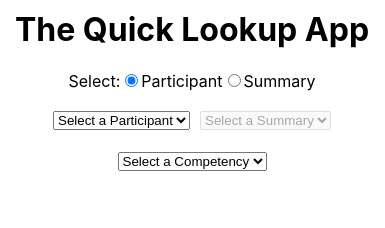
Test: Correct output when selecting `MBOLevel` with summary `type` › should get the correct result after selecting 'Summary' and 'Competency' select boxes
The width and height of the screenshot is (385, 228).
Step 1. Click the radio button labelled "Summary" → (234, 80), box [228,74,240,87]
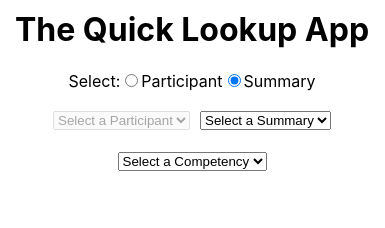
Step 2. Select "type" in the dropdown with test id "select-summary" → (266, 120), box [200,111,331,130]
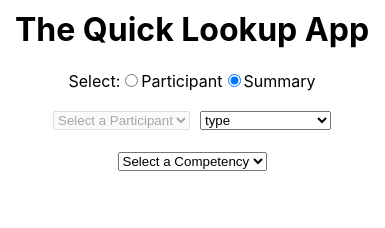
Step 3. Select "MBOLevel" in the dropdown with test id "select-competency" → (192, 161), box [118,152,266,171]
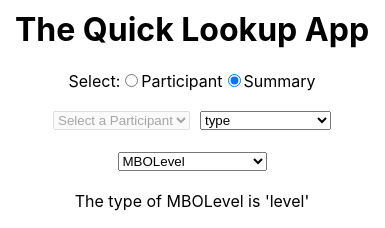
Expected: the text "The type of MBOLevel is 'level'" is shown, [75,191,309,211]
